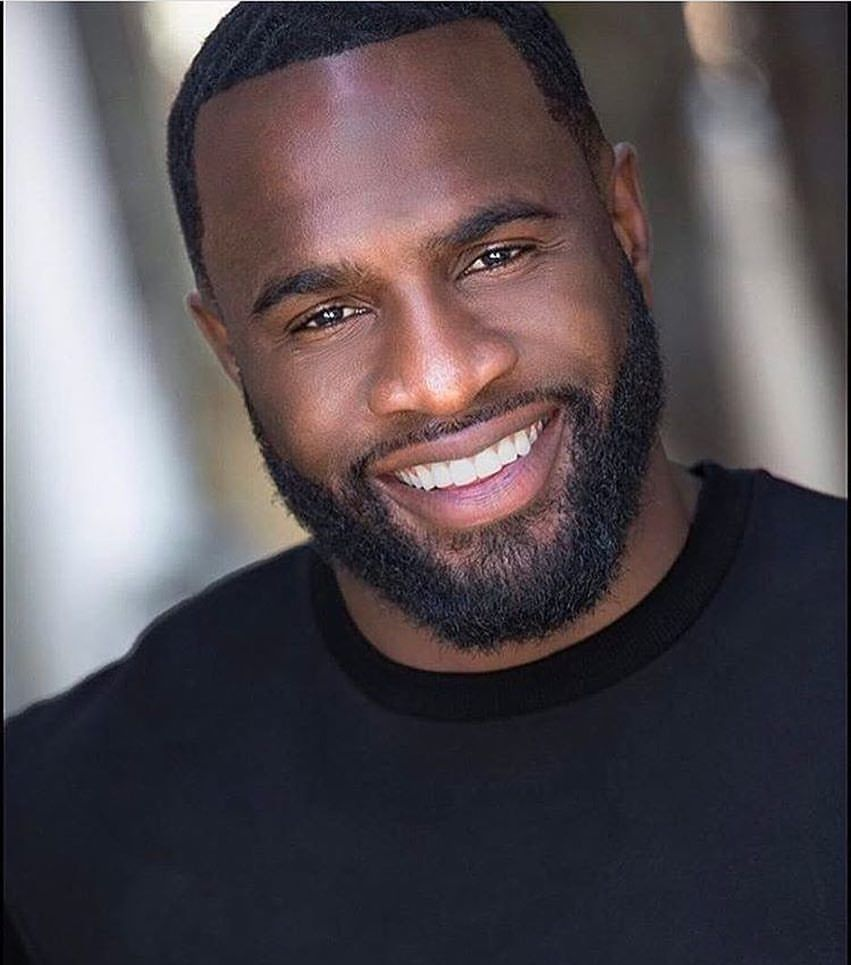bare: (242, 318, 653, 650)
